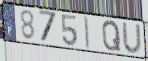5: (61, 13, 79, 47)
7: (38, 9, 58, 46)
8: (20, 9, 36, 42)
I: (83, 16, 91, 50)
Q: (102, 19, 122, 52)
U: (121, 22, 143, 55)
